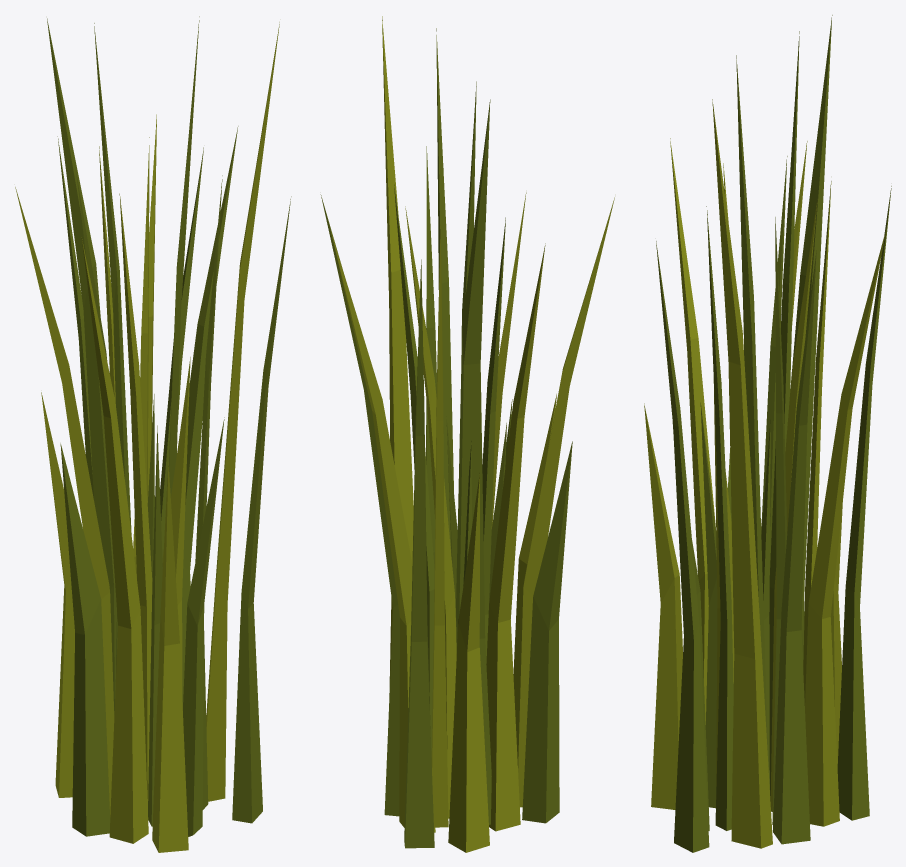
The model's file is High Grass_4.fbx.
3 renders of one model, left to right at view 1: azimuth 30°, elevation 25°; view 2: azimuth 150°, elevation 25°; view 3: azimuth 270°, elevation 25°, orthographic. The views are drawn at different scales.
Parts seen in each view (by area): view 1: High Grass_4; view 2: High Grass_4; view 3: High Grass_4.
Boxes of the visible parts, bbox=[...] form: High Grass_4: bbox=[15, 16, 291, 852]; High Grass_4: bbox=[320, 16, 614, 852]; High Grass_4: bbox=[644, 15, 891, 852].
Size of the model in its own units: 0.9388 by 3.12 by 0.8827.
